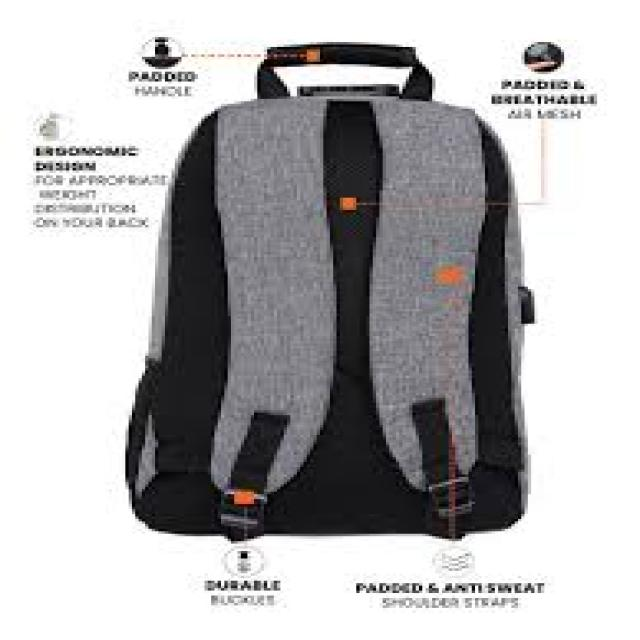backpack: (123, 43, 535, 542)
